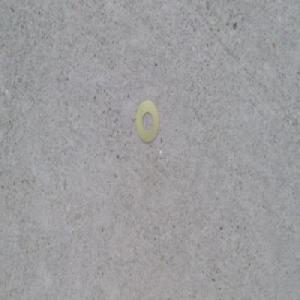Washer: (135, 97, 160, 144)
